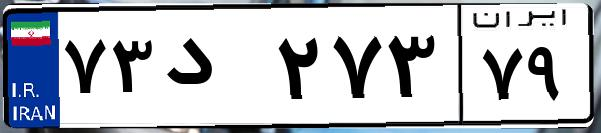2: (270, 28, 330, 110)
3: (385, 28, 445, 110), (110, 28, 158, 98)
7: (330, 28, 385, 110), (57, 26, 110, 100), (475, 38, 525, 113)
9: (525, 38, 570, 115)
د: (158, 20, 270, 120)
